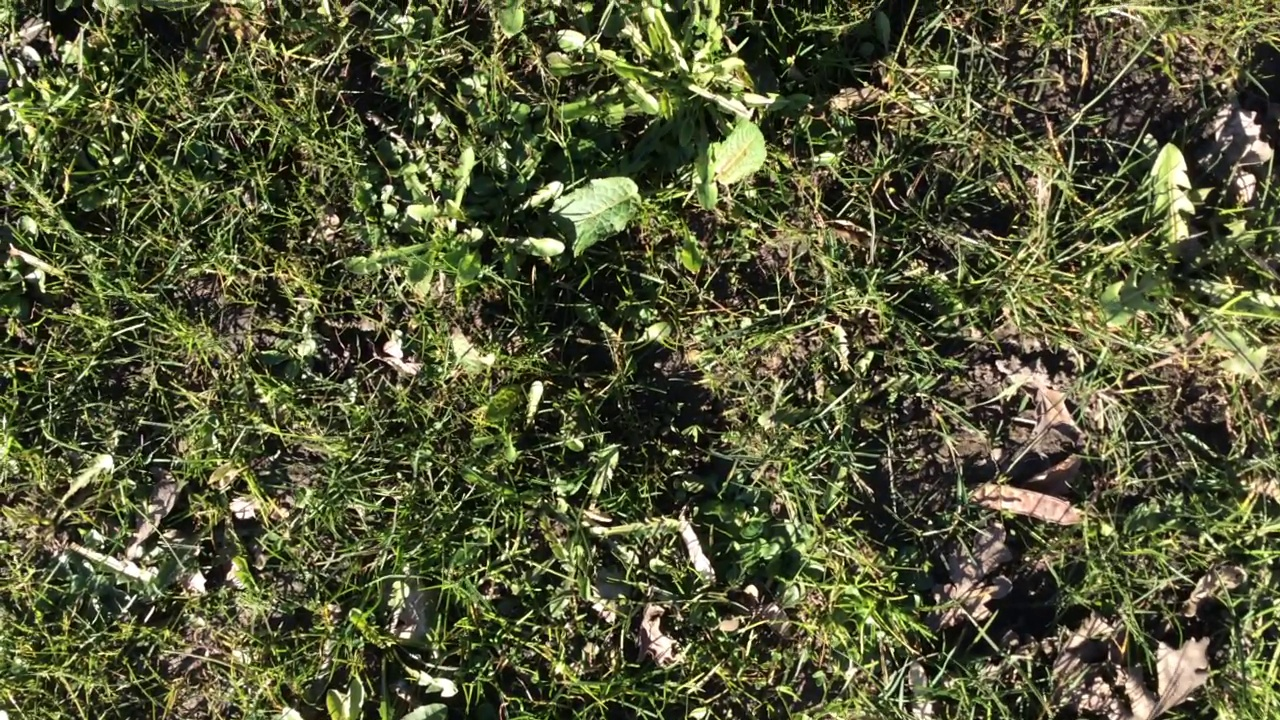rumex: (519, 175, 640, 252), (697, 123, 766, 185)
